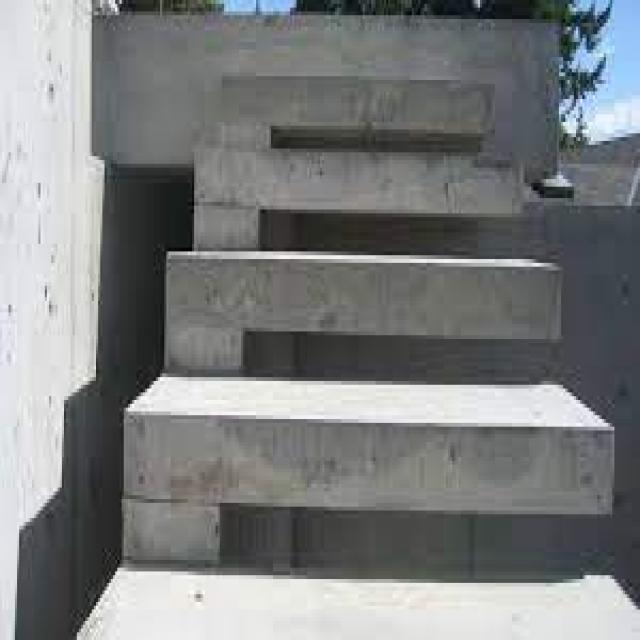upstair: (93, 66, 637, 630)
